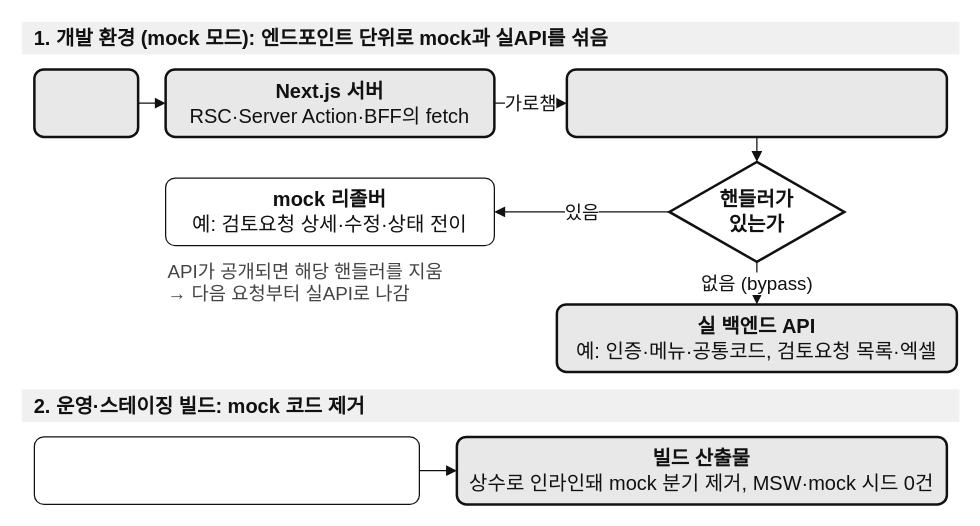
Some shapes in this 980 by 526 pixel diagram are drawn without their labels. Here are the shapes that lost their labels. From the top down, the box of each, then its label:
(32, 68, 139, 138): 브라우저
(565, 68, 948, 138): MSW setupServer instrumentation.ts에서 listen
(33, 436, 419, 504): 빌드 스크립트 NEXT_PUBLIC_USE_MOCK=false 고정
